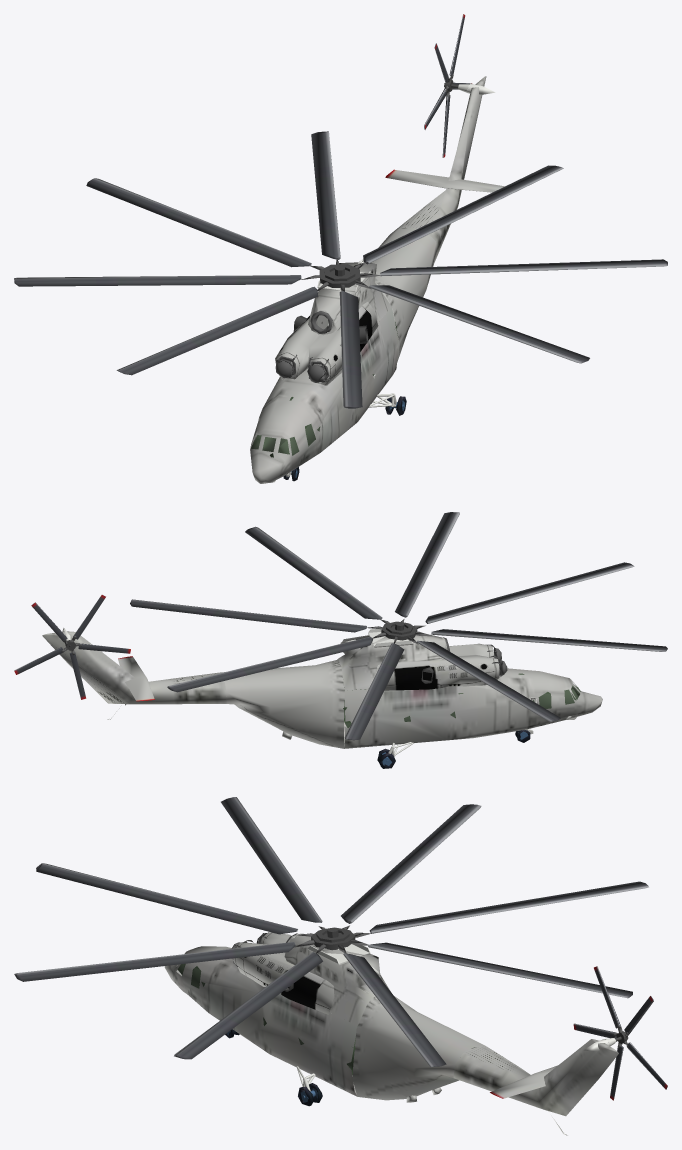
3 views of the same model, one above another, from view 1: azimuth 30°, elevation 25°; view 2: azimuth 150°, elevation 25°; view 3: azimuth 270°, elevation 25° (orthographic). The views are drawn at different scales.
Parts seen in each view (by area): view 1: FUZEL-FACES, Object04-FACES, DV02-FACES, Cylinder60-FACES, Object03-FACES, Cylinder58-FACES, Cylinder59-FACES, Cylinder57-FACES, Cylinder62-FACES, Cylinder64-FACES, Cylinder61-FACES, Cylinder63-FACES (+4 smaller); view 2: FUZEL-FACES, Object04-FACES, Object03-FACES, DV02-FACES, Object06-FACES, Cylinder64-FACES, Cylinder57-FACES, Cylinder62-FACES, Cylinder63-FACES, Cylinder61-FACES, Cylinder58-FACES, Cylinder59-FACES (+4 smaller); view 3: FUZEL-FACES, Object04-FACES, Object03-FACES, Object06-FACES, DV02-FACES, Cylinder63-FACES, Cylinder61-FACES, Cylinder59-FACES, Cylinder62-FACES, Cylinder60-FACES, Cylinder58-FACES, Cylinder57-FACES (+4 smaller).
Part boxes in pixels (<box>): FUZEL-FACES: <box>250,307,398,483</box>; Object04-FACES: <box>371,228,437,374</box>; DV02-FACES: <box>275,302,378,385</box>; Cylinder60-FACES: <box>14,275,301,286</box>; Object03-FACES: <box>391,76,486,253</box>; Cylinder58-FACES: <box>86,178,311,267</box>; Cylinder59-FACES: <box>116,286,318,375</box>; Cylinder57-FACES: <box>311,131,340,259</box>; Cylinder62-FACES: <box>380,259,667,276</box>; Cylinder64-FACES: <box>363,165,563,264</box>; Cylinder61-FACES: <box>339,291,362,408</box>; Cylinder63-FACES: <box>369,285,589,363</box>; FUZEL-FACES: <box>344,668,602,748</box>; Object04-FACES: <box>221,659,344,748</box>; Object03-FACES: <box>42,631,226,704</box>; DV02-FACES: <box>377,643,499,690</box>; Object06-FACES: <box>338,634,447,690</box>; Cylinder64-FACES: <box>130,599,366,632</box>; Cylinder57-FACES: <box>167,636,372,692</box>; Cylinder62-FACES: <box>245,526,382,619</box>; Cylinder63-FACES: <box>395,512,459,617</box>; Cylinder61-FACES: <box>425,562,634,623</box>; Cylinder58-FACES: <box>344,643,404,740</box>; Cylinder59-FACES: <box>431,629,667,651</box>; FUZEL-FACES: <box>164,946,357,1096</box>; Object04-FACES: <box>352,996,484,1102</box>; Object03-FACES: <box>453,1039,618,1116</box>; Object06-FACES: <box>284,933,390,1025</box>; DV02-FACES: <box>233,932,334,1014</box>; Cylinder63-FACES: <box>14,942,295,981</box>; Cylinder61-FACES: <box>36,863,297,934</box>; Cylinder59-FACES: <box>221,797,322,922</box>; Cylinder62-FACES: <box>174,952,322,1059</box>; Cylinder60-FACES: <box>341,804,481,923</box>; Cylinder58-FACES: <box>369,881,648,933</box>; Cylinder57-FACES: <box>368,942,632,998</box>.
Size of the model in its own units: 34.01 by 13.02 by 33.3.
15 materials, 9 textured.
